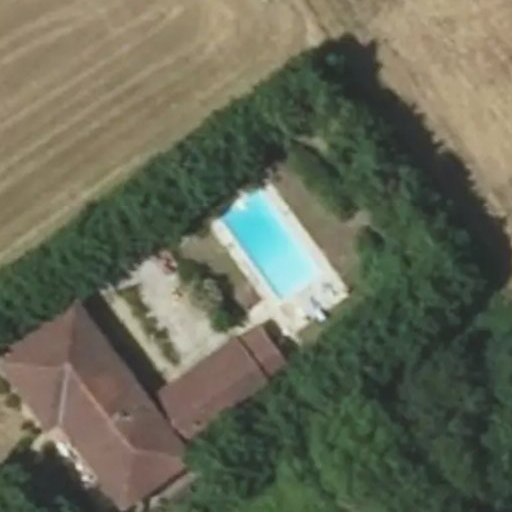pool: (203, 215, 308, 269)
